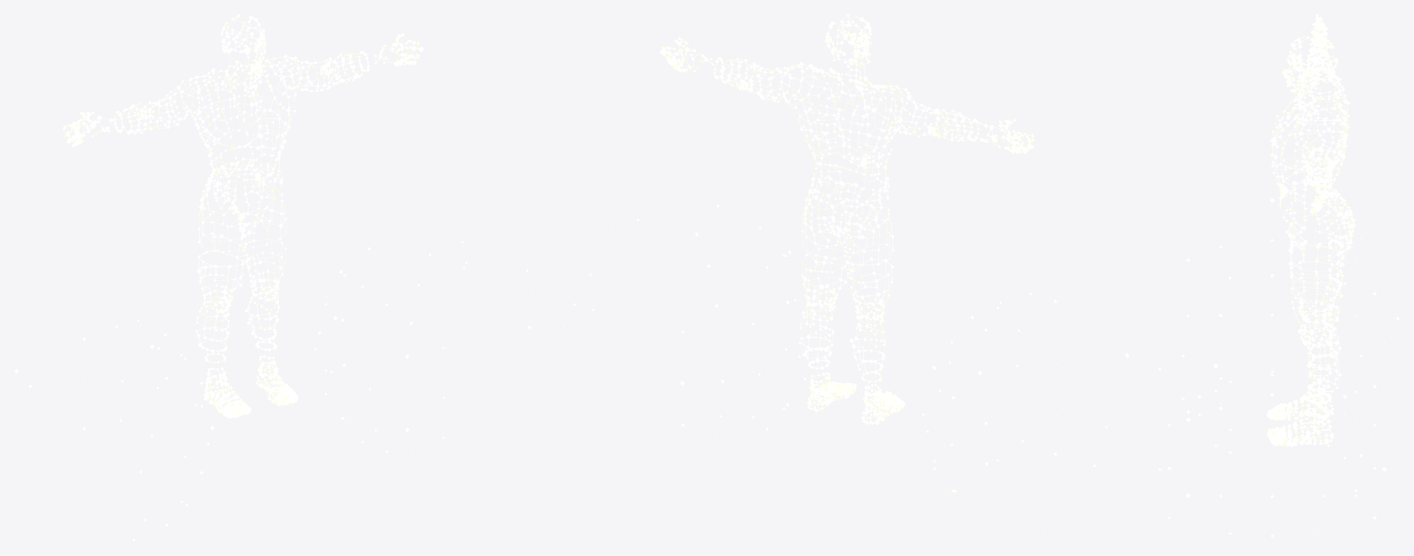
File: human-plexus.glb
3 views of the same model, side by side, from view 1: azimuth 30°, elevation 25°; view 2: azimuth 150°, elevation 25°; view 3: azimuth 270°, elevation 25° (orthographic). The views are drawn at different scales.
Bounding box in the file's own units: 1.98 × 1.71 × 0.7723.
